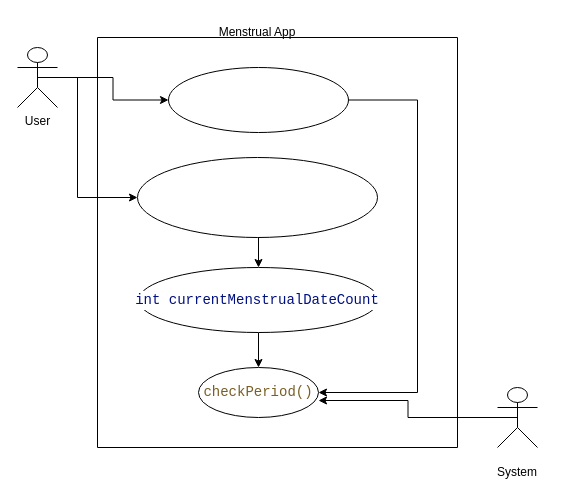
Some shapes in this 565 by 504 pixel diagram are drawn without their labels. Here are the shapes that lost their labels. From the top down, the box of each, then its label:
(168, 66, 348, 132): username age
(136, 156, 378, 238): lastMenstrualDate menstrualCycleDays
